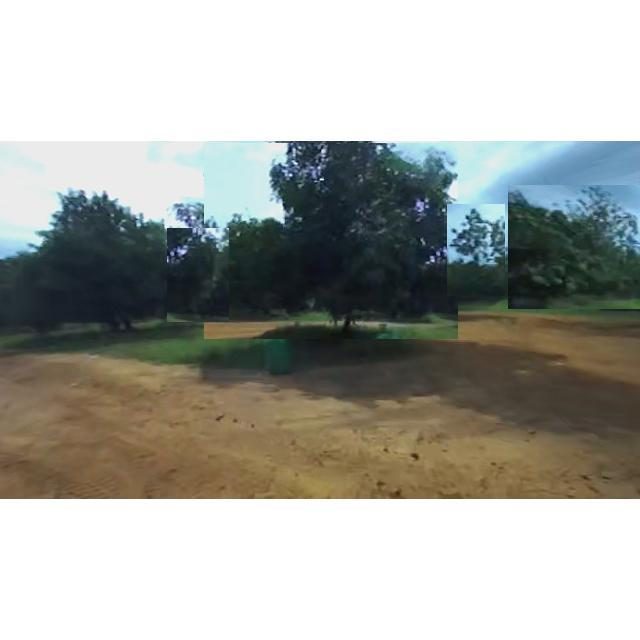tree: (204, 143, 458, 339), (20, 186, 184, 336), (508, 185, 640, 309), (167, 228, 229, 322), (447, 204, 505, 296)
